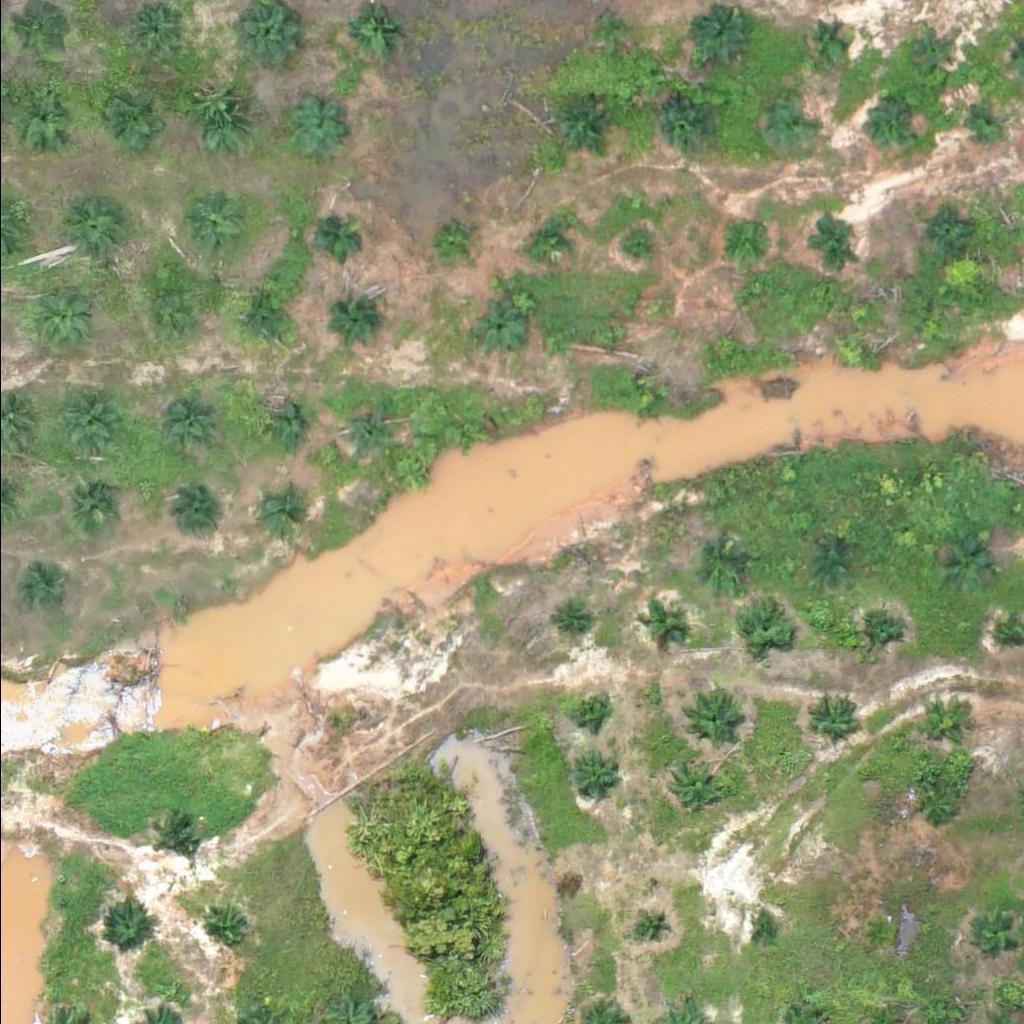Kelapa_Sawit: (128, 274, 191, 337), (152, 389, 215, 452), (235, 1, 298, 64), (752, 96, 815, 159), (55, 387, 118, 450), (10, 84, 73, 147), (663, 754, 726, 817), (96, 85, 159, 147), (181, 196, 244, 258), (283, 95, 346, 157), (60, 195, 123, 257), (22, 284, 85, 346), (64, 474, 127, 536), (183, 91, 246, 153), (681, 688, 744, 750), (657, 103, 708, 153), (554, 102, 605, 152), (910, 784, 961, 834), (522, 213, 573, 263), (916, 697, 967, 747), (867, 104, 917, 154), (127, 1, 177, 51), (166, 490, 216, 540), (335, 297, 385, 347), (310, 215, 360, 265), (340, 404, 390, 454), (471, 303, 521, 353), (255, 400, 305, 450), (256, 486, 306, 536), (98, 899, 148, 949), (20, 568, 70, 618), (202, 902, 252, 952), (146, 811, 196, 861), (231, 294, 281, 344), (846, 605, 896, 655), (737, 603, 787, 653), (804, 692, 854, 742), (568, 752, 618, 802), (803, 217, 853, 267), (713, 215, 763, 265), (971, 912, 1021, 962), (938, 539, 988, 589), (918, 208, 968, 258), (687, 541, 737, 591), (445, 412, 483, 450), (434, 224, 472, 262), (644, 602, 682, 640), (553, 603, 591, 641), (570, 690, 608, 728), (593, 316, 631, 354), (706, 326, 744, 364), (831, 332, 869, 370), (971, 110, 1009, 148), (633, 909, 671, 946), (631, 380, 669, 417), (858, 913, 895, 951), (811, 543, 849, 580), (908, 33, 946, 70), (591, 14, 629, 51), (613, 226, 650, 263), (805, 24, 842, 61), (749, 915, 774, 940), (995, 622, 1020, 647)
